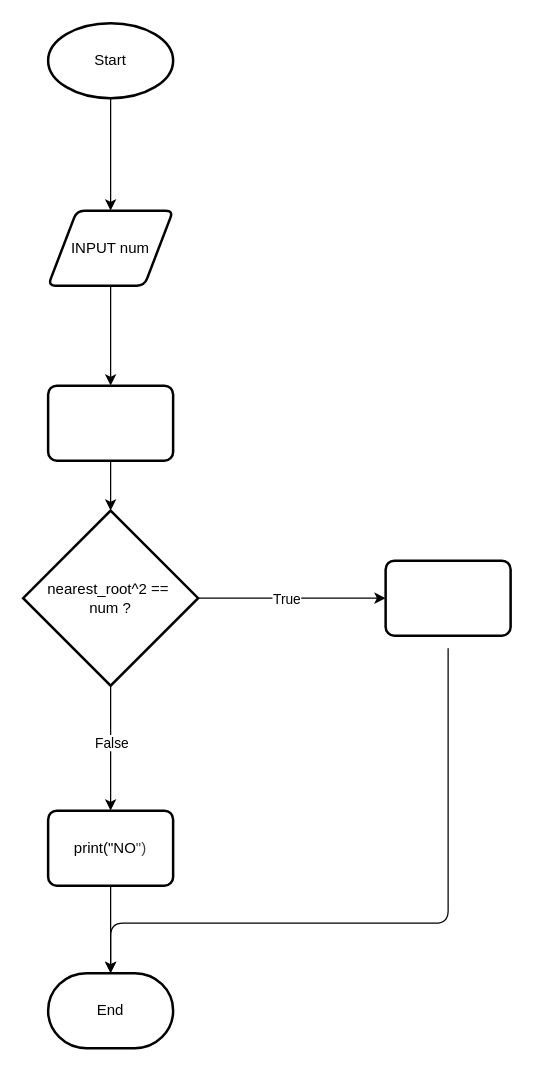
The diagram is 533 pixels wide and 1070 high, and some of its shapes have lost their labels. The shapes that lost their labels are listed below. From the top down, each one's centre as x and y in pixels, then its label:
(x=110, y=422): nearest_root = int(sqrt(num))
(x=447, y=597): print("YES")
